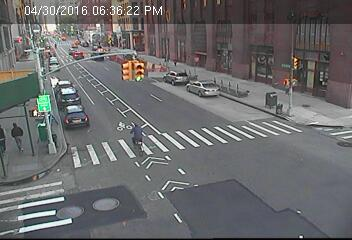neg: (121, 119, 148, 156), (65, 84, 87, 114), (239, 49, 254, 68), (202, 67, 216, 85), (176, 67, 186, 80)
pos: (7, 121, 31, 153), (170, 55, 181, 69)
